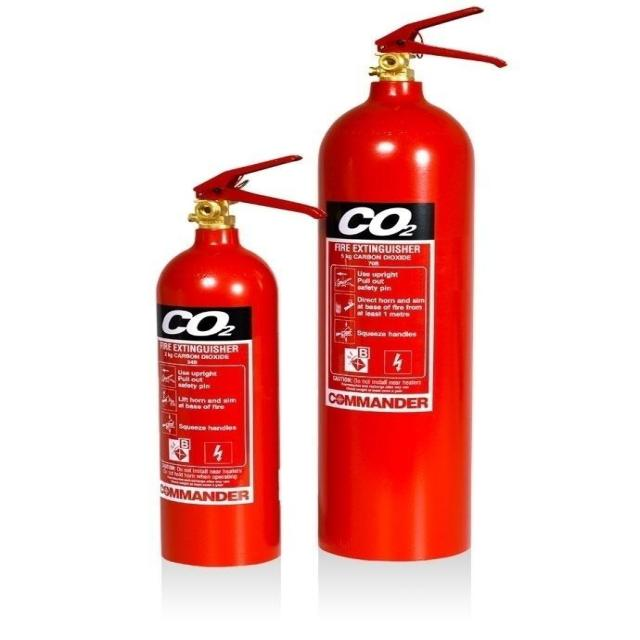fire_extinguisher: (308, 3, 510, 564), (148, 150, 330, 570)
